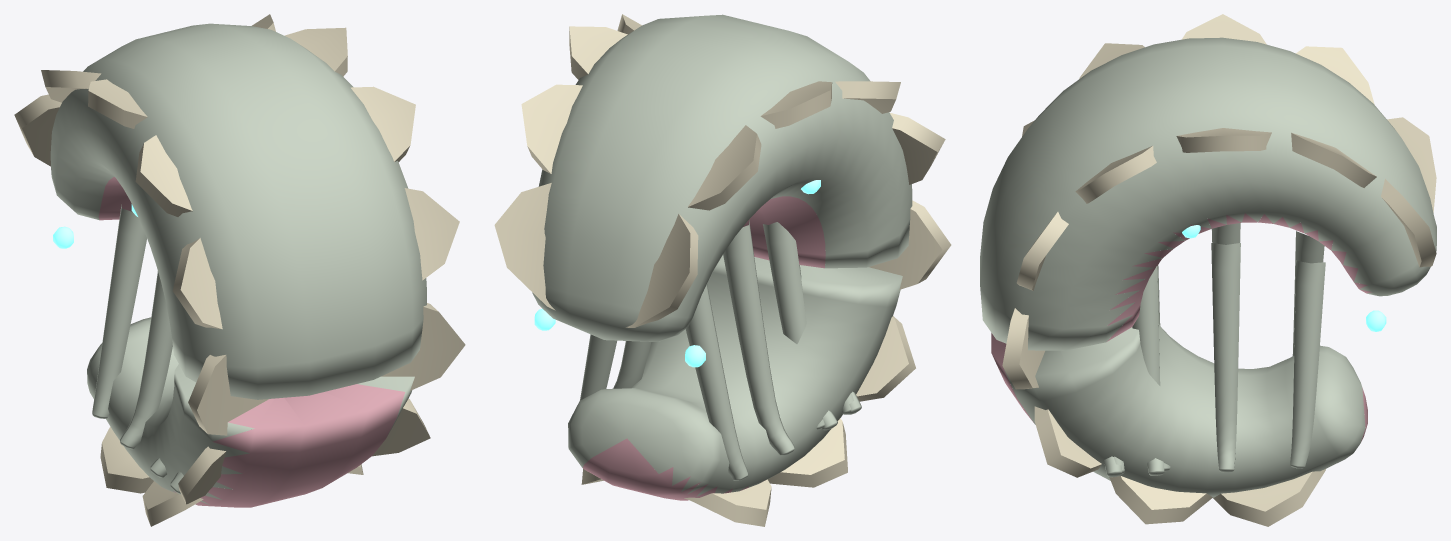
Rendered from xeno-species-and-alien-creatures-armoured-pill-form-fc059e00__21123.glb.
3 views of the same model, side by side, from view 1: azimuth 30°, elevation 25°; view 2: azimuth 150°, elevation 25°; view 3: azimuth 270°, elevation 25° (orthographic). The views are drawn at different scales.
Parts seen in each view (by area): view 1: armoured-pill-form; view 2: armoured-pill-form; view 3: armoured-pill-form.
Part boxes in pixels (x1,y1,x2,y2): armoured-pill-form: (14,14,465,526); armoured-pill-form: (494,14,951,526); armoured-pill-form: (980,14,1436,526).
Size of the model in its own units: 1.28 by 1.92 by 1.87.
